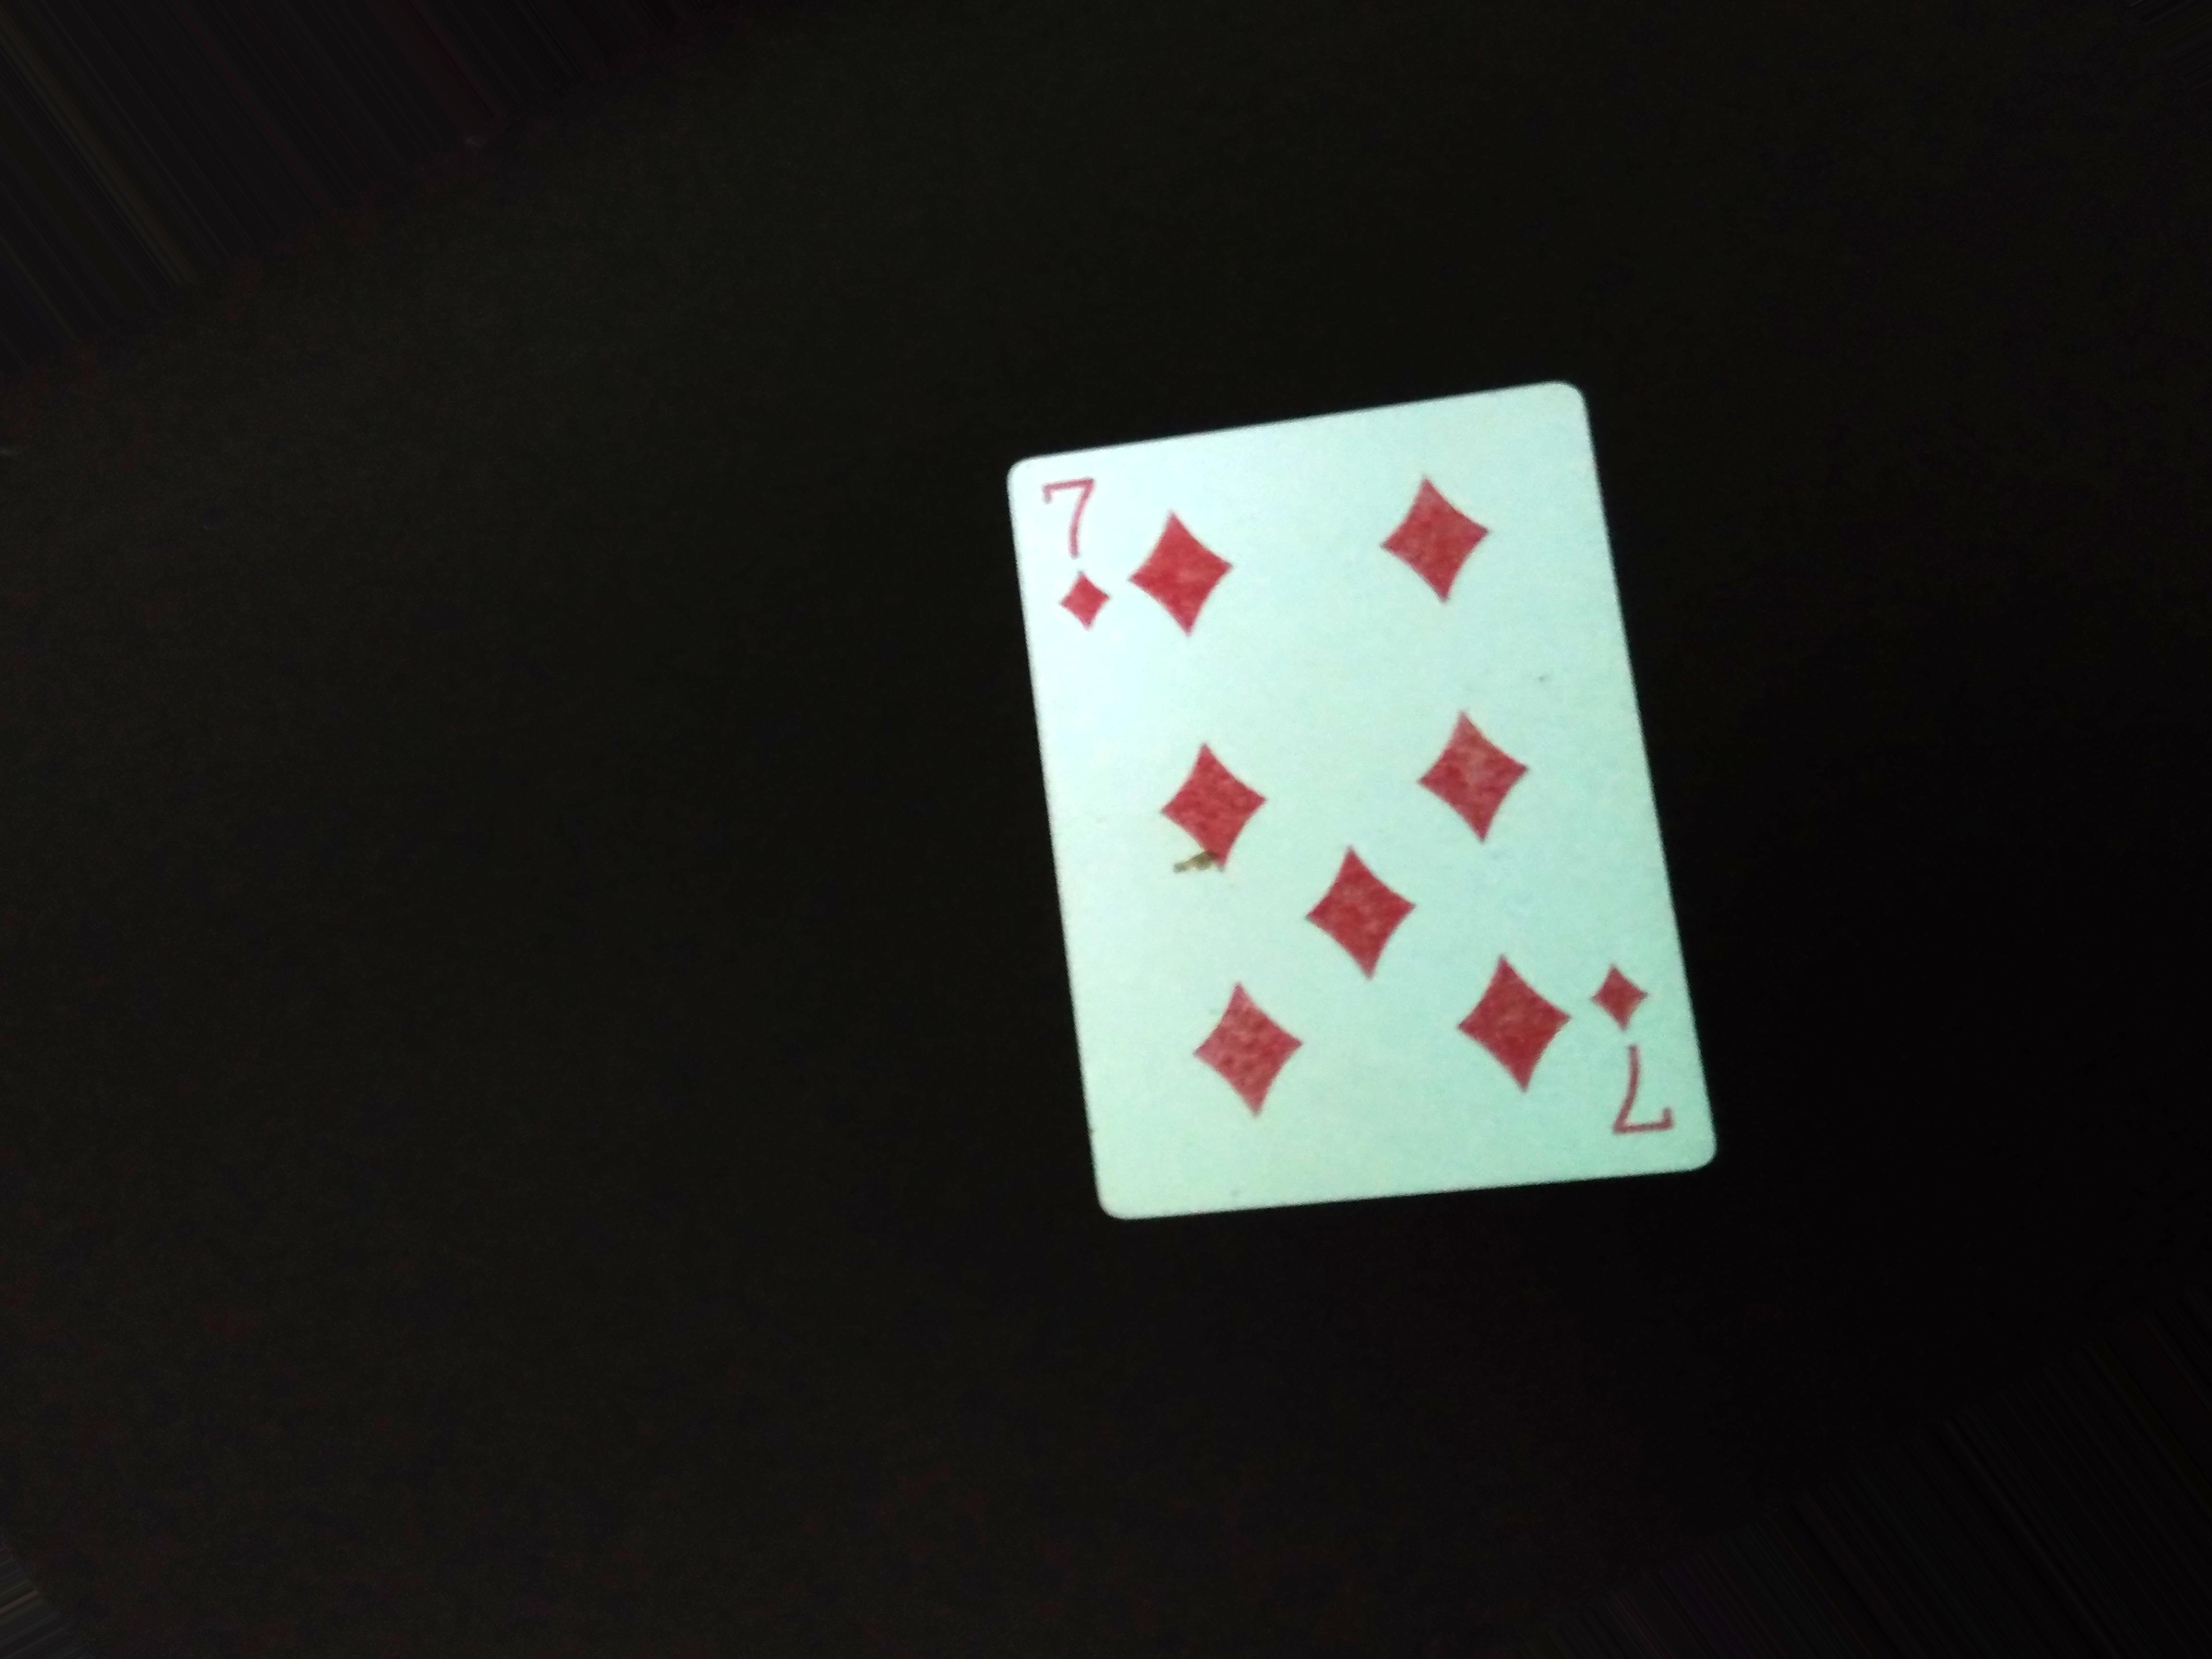7D: (1040, 457, 1125, 648)
